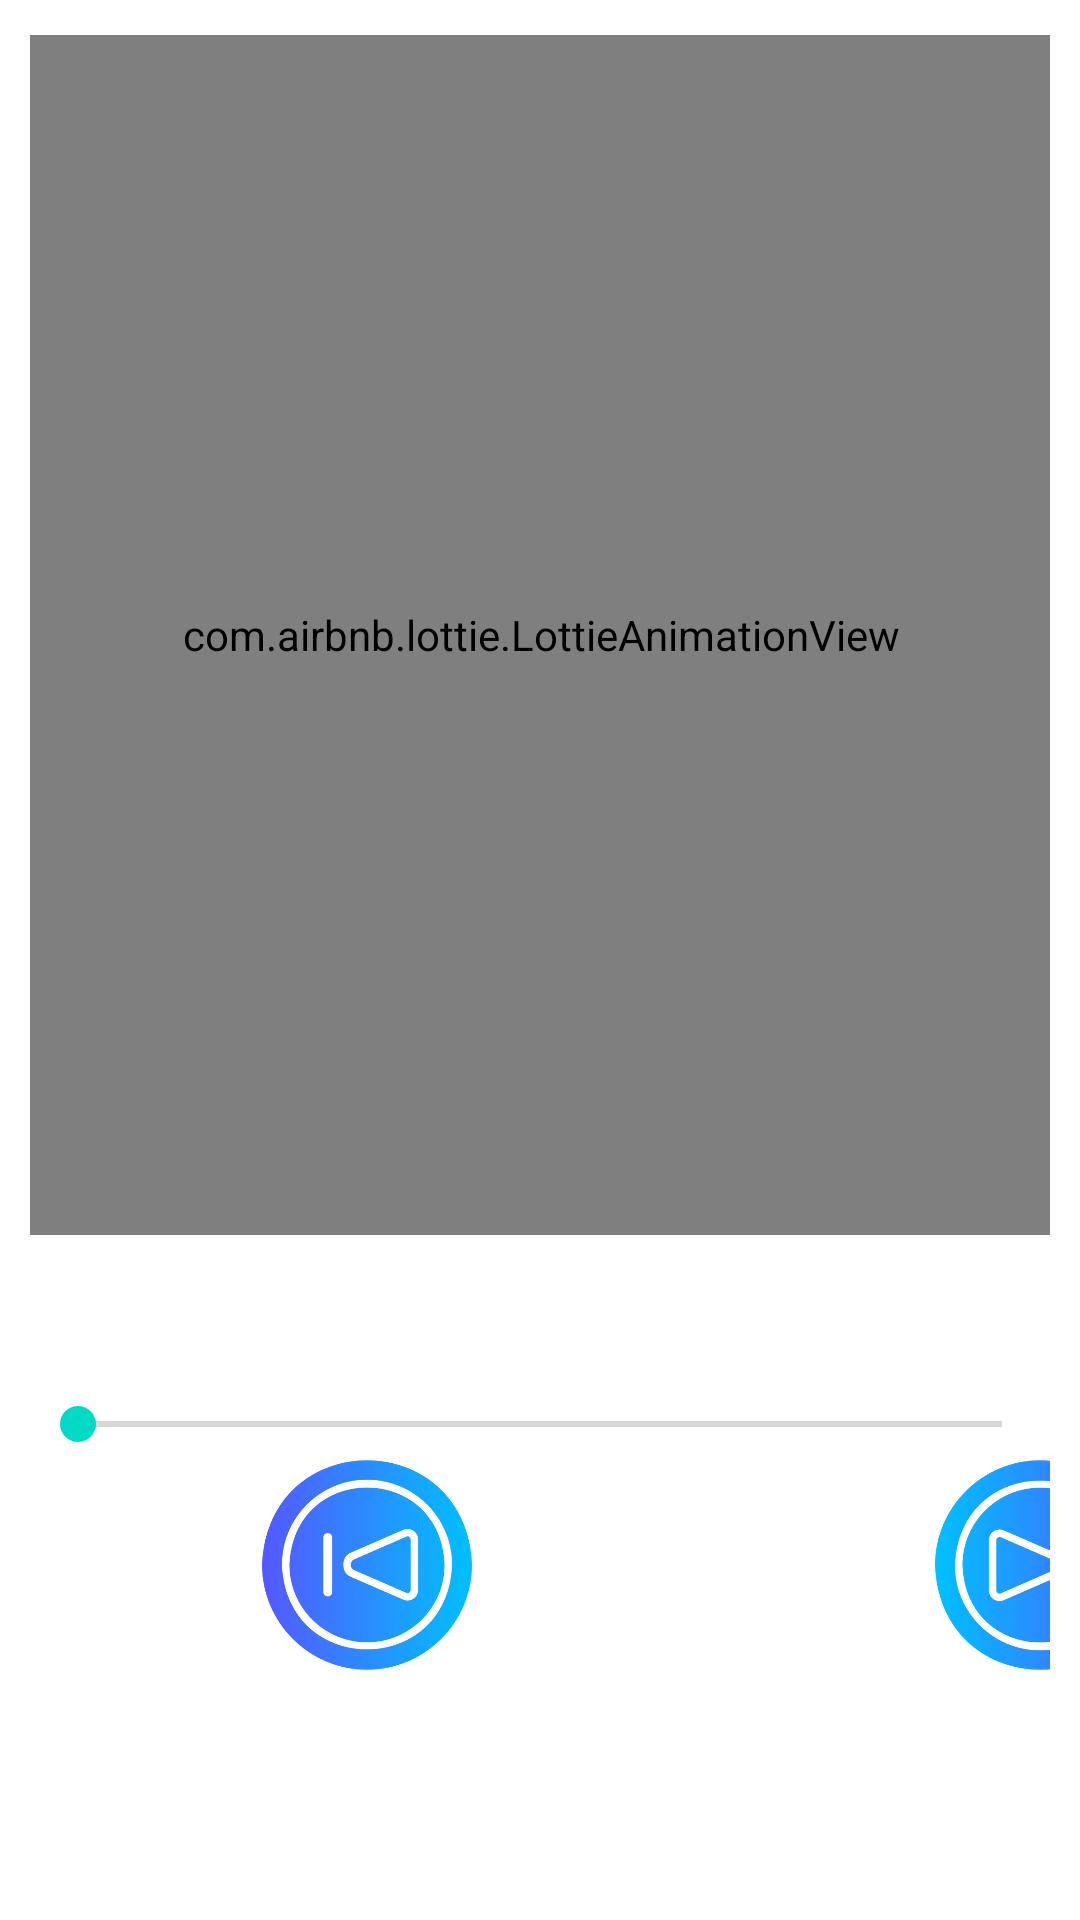

Where to tap for icons on this 1080×1920 app screen, as point (x, y):
backward: point (367, 1565)
